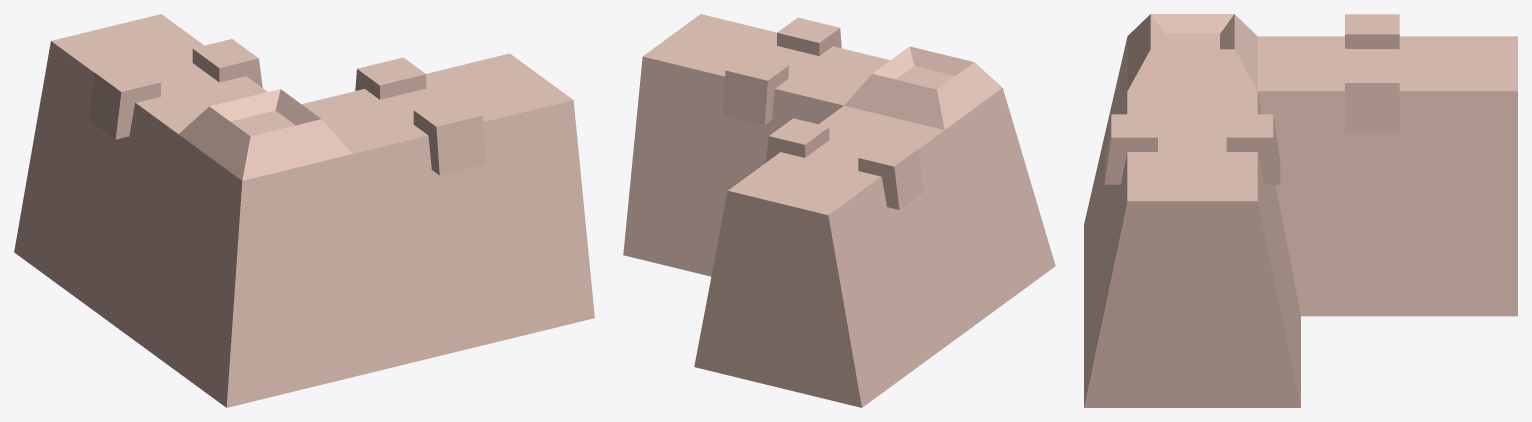
3 renders of one model, left to right at view 1: azimuth 30°, elevation 25°; view 2: azimuth 150°, elevation 25°; view 3: azimuth 270°, elevation 25°, orthographic. The views are drawn at different scales.
Parts seen in each view (by area): view 1: Object08; view 2: Object08; view 3: Object08.
Part boxes in pixels (x1=…): Object08: x1=14, y1=14, x2=594, y2=407; Object08: x1=623, y1=14, x2=1055, y2=407; Object08: x1=1084, y1=14, x2=1517, y2=407.
Size of the model in its own units: 200 by 121 by 200.
